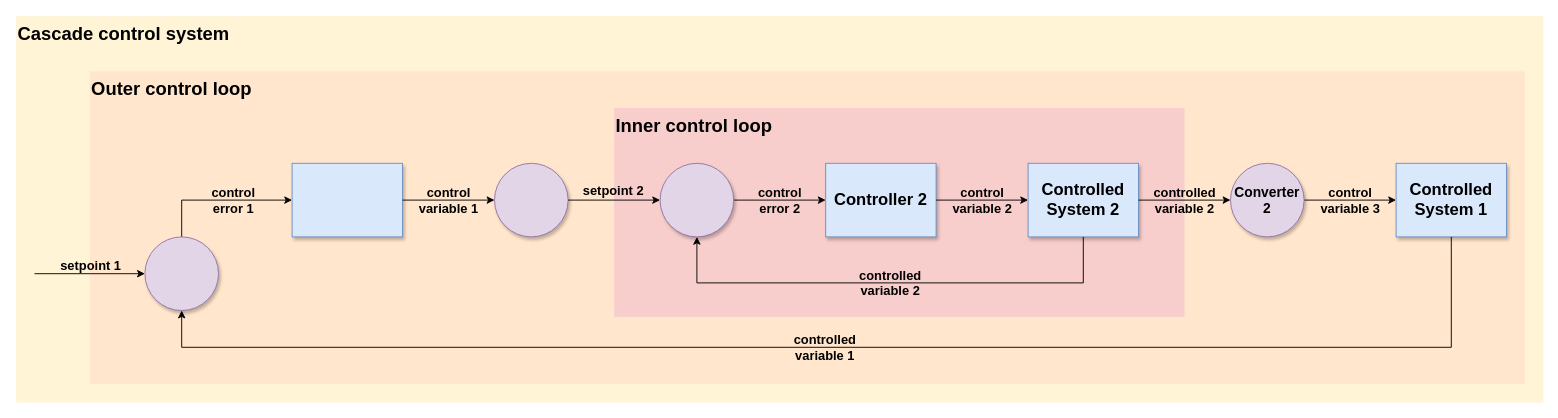
The diagram is 1558 pixels wide and 418 high, and some of its shapes have lost their labels. Each missing label, with the centre of its shape:
"Compa- rator 1" belongs at pixel 182 274.
"Compa- rator 2" belongs at pixel 697 201.
"Controller 1" belongs at pixel 348 201.
"Converter 1" belongs at pixel 532 201.
